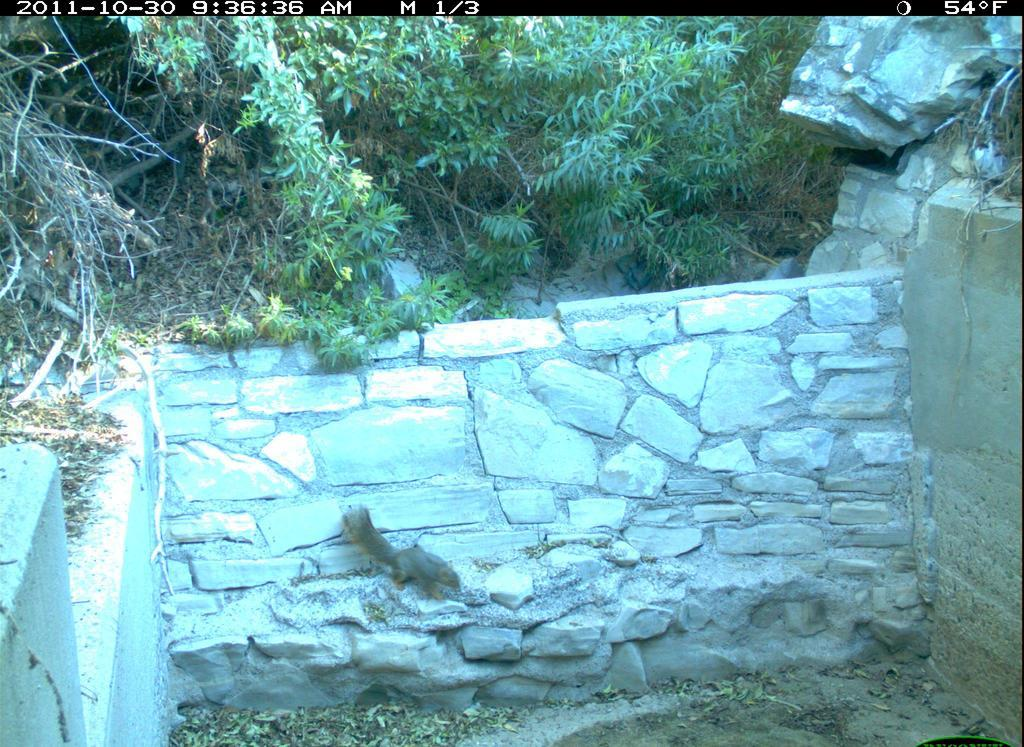squirrel: (332, 505, 481, 607)
